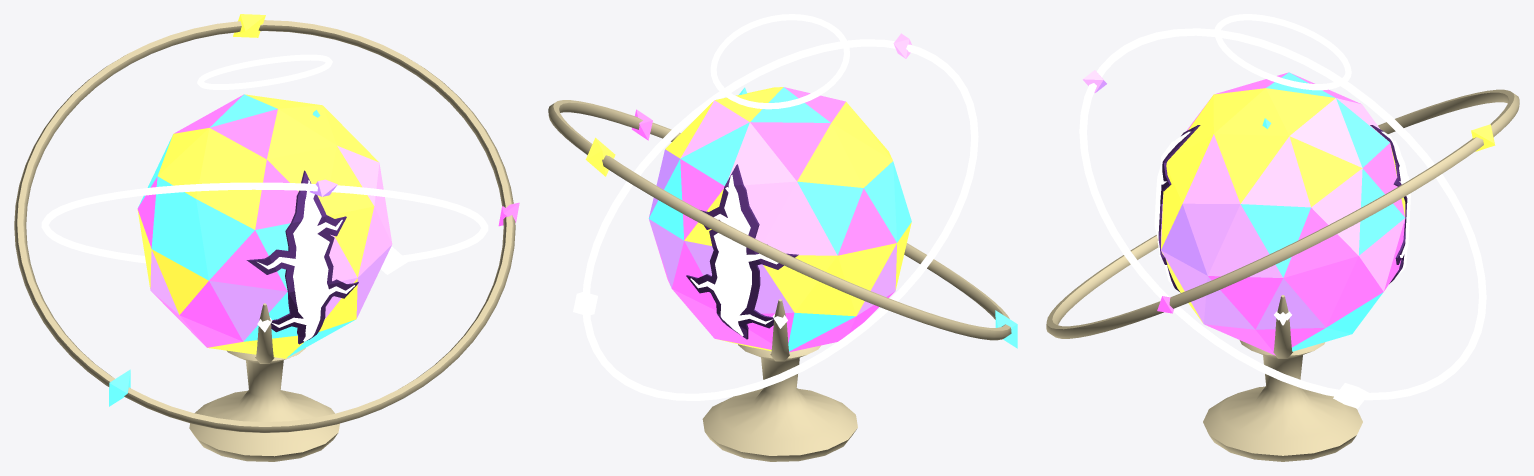
The model's file is aetherift_orbital.glb.
The picture shows the model from 3 angles, left to right: view 1: azimuth 30°, elevation 25°; view 2: azimuth 150°, elevation 25°; view 3: azimuth 270°, elevation 25°; orthographic projection. The views are drawn at different scales.
Parts seen in each view (by area): view 1: aetherift_orbital; view 2: aetherift_orbital; view 3: aetherift_orbital.
Boxes of the visible parts, left/top/right/bottom form: aetherift_orbital: left=14, top=14, right=519, bottom=461; aetherift_orbital: left=548, top=14, right=1017, bottom=461; aetherift_orbital: left=1046, top=14, right=1519, bottom=461.
Size of the model in its own units: 0.315 by 0.2728 by 0.2923.
